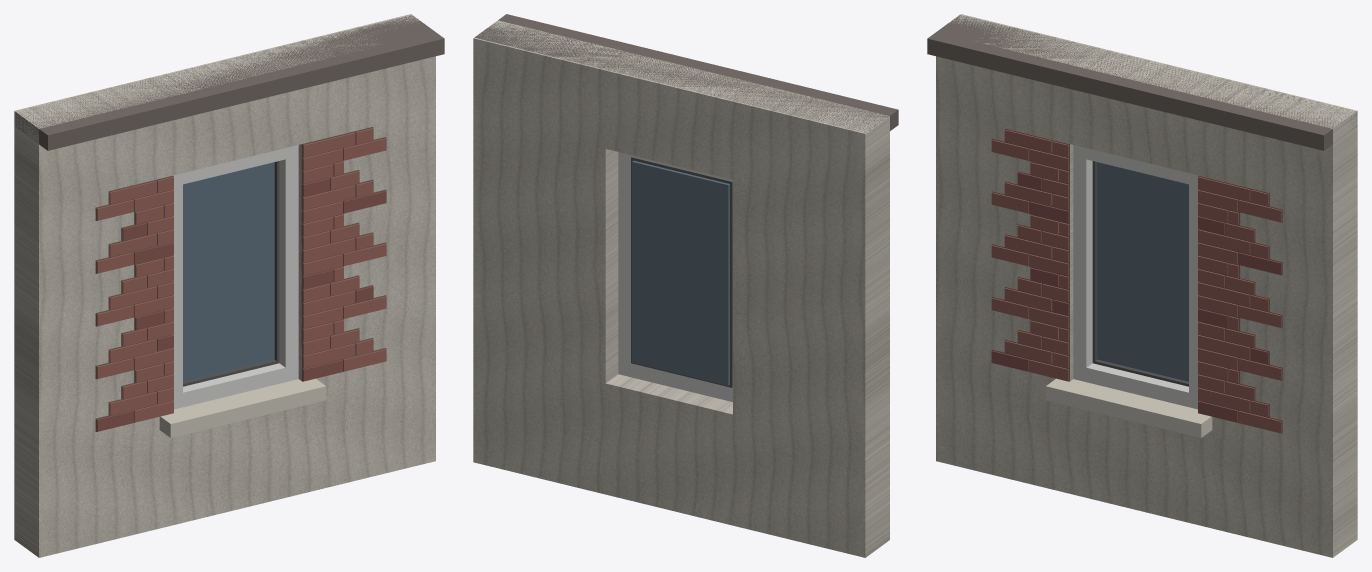
Rendered from wuyi-234-stepped-brick-jambs-far.glb.
3 views of the same model, side by side, from view 1: azimuth 30°, elevation 25°; view 2: azimuth 150°, elevation 25°; view 3: azimuth 330°, elevation 25° (orthographic).
Visible parts, largest first — view 1: 武夷路234号住宅竖梳粉墙与阶梯砖窗套; view 2: 武夷路234号住宅竖梳粉墙与阶梯砖窗套; view 3: 武夷路234号住宅竖梳粉墙与阶梯砖窗套.
Boxes of the visible parts, x1,y1,x2,y2 form: 武夷路234号住宅竖梳粉墙与阶梯砖窗套: (14,14,444,557); 武夷路234号住宅竖梳粉墙与阶梯砖窗套: (473,14,898,557); 武夷路234号住宅竖梳粉墙与阶梯砖窗套: (927,14,1357,557).
Size of the model in its own units: 2.4 by 2.48 by 0.375.
9 materials, 1 textured.
